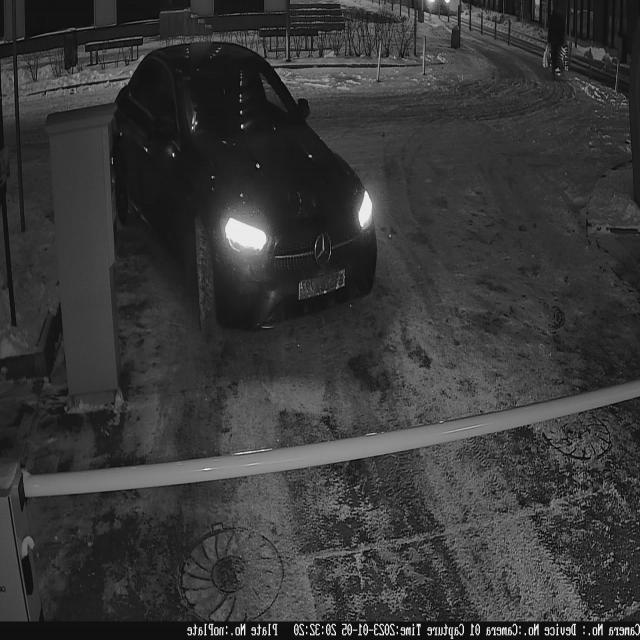car-plate-numbers: (298, 266, 349, 305)
